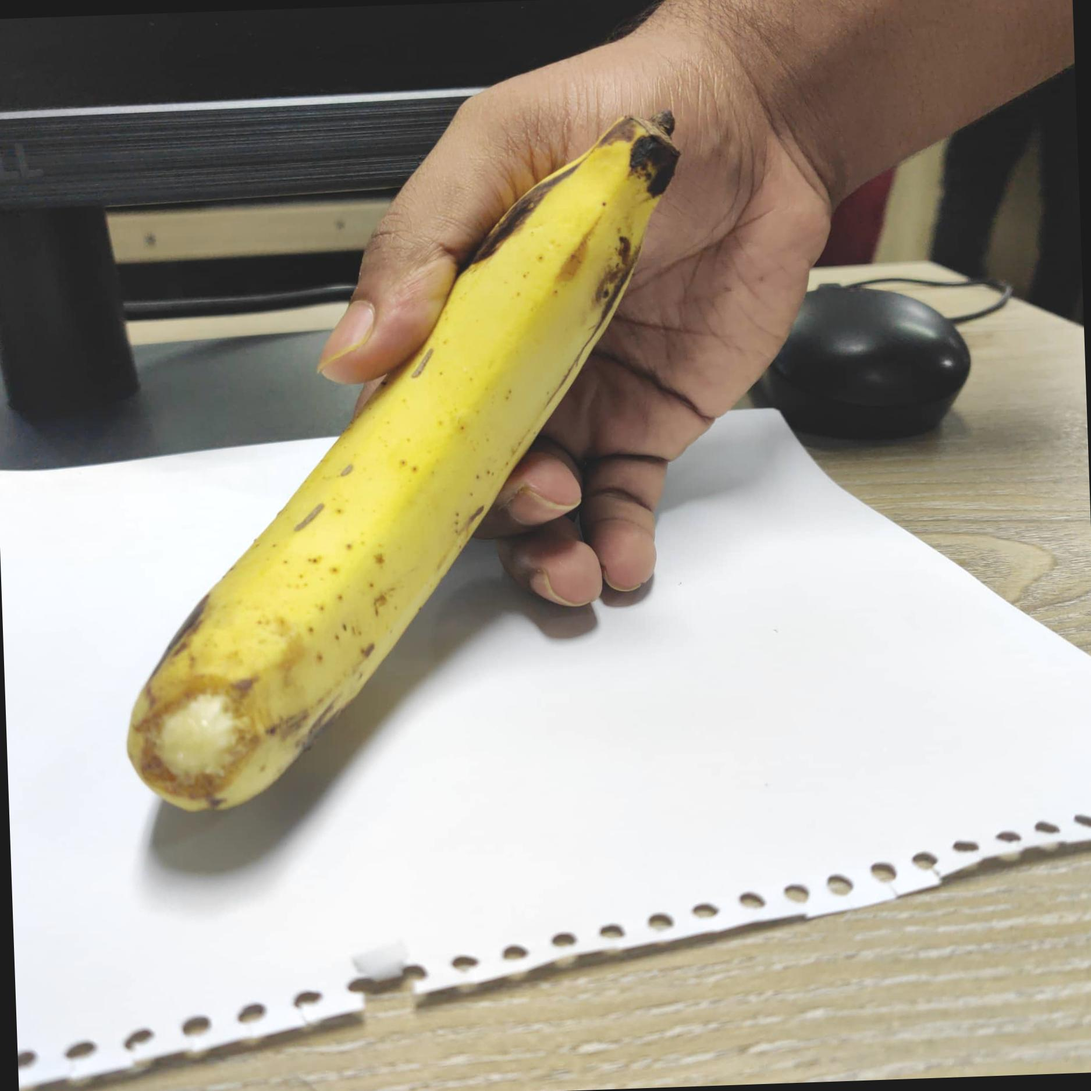Banana Ripe: (123, 131, 693, 855)
